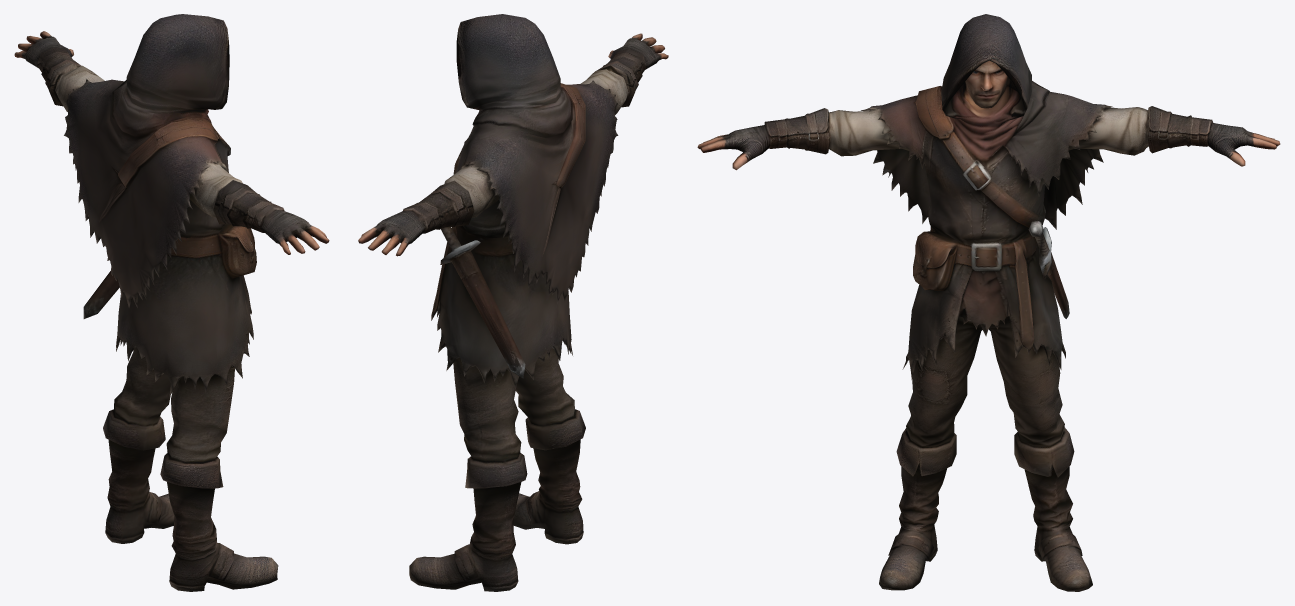
The model's file is medieval+rogue+3d+model.glb.
The picture shows the model from 3 angles, left to right: view 1: azimuth 30°, elevation 25°; view 2: azimuth 150°, elevation 25°; view 3: azimuth 270°, elevation 25°; orthographic projection.
Parts seen in each view (by area): view 1: tripo_node_57b55bac-0656-4bbf-b456-c90f5ad0be82; view 2: tripo_node_57b55bac-0656-4bbf-b456-c90f5ad0be82; view 3: tripo_node_57b55bac-0656-4bbf-b456-c90f5ad0be82.
Boxes of the visible parts, left/top/right/bottom form: tripo_node_57b55bac-0656-4bbf-b456-c90f5ad0be82: left=14, top=14, right=329, bottom=591; tripo_node_57b55bac-0656-4bbf-b456-c90f5ad0be82: left=358, top=14, right=668, bottom=591; tripo_node_57b55bac-0656-4bbf-b456-c90f5ad0be82: left=697, top=14, right=1280, bottom=591.
Size of the model in its own units: 0.2285 by 0.998 by 0.9668.
1 material, 1 textured.
